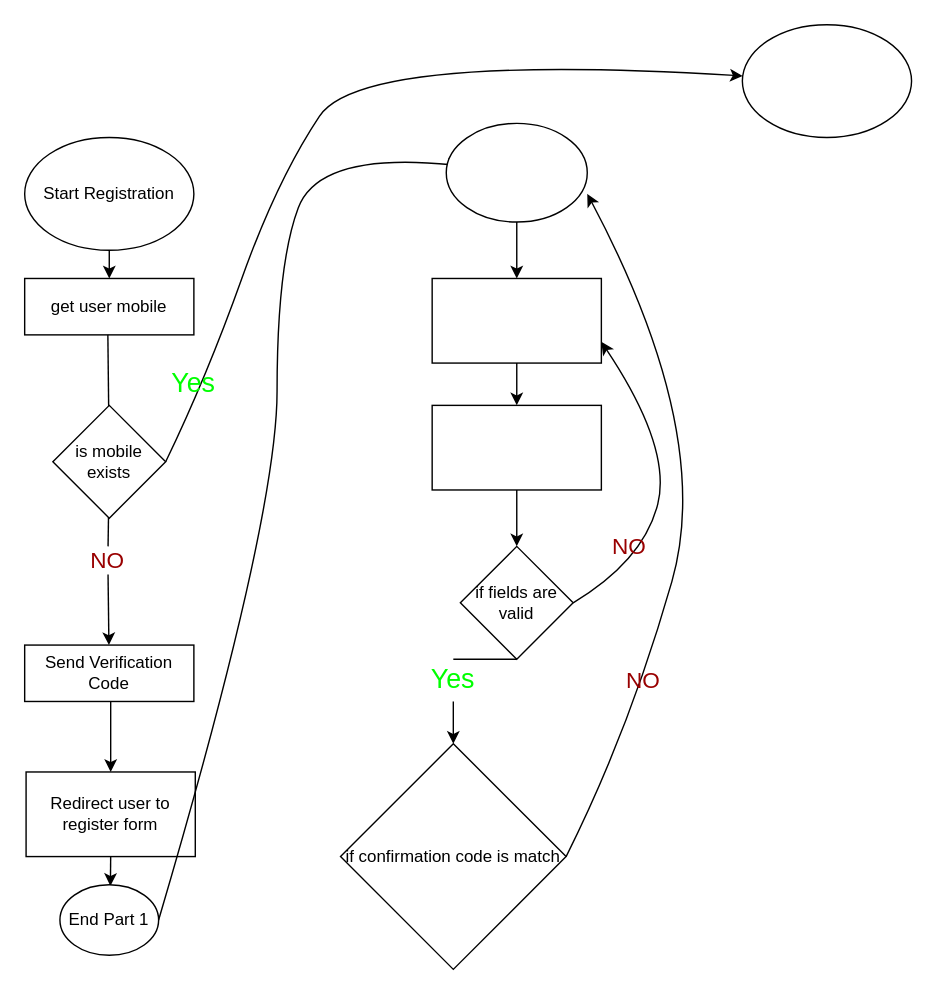
Image size: 936x994. Some labels were removed from this diagram. The shapes that lost their labels are listed below. From the top down, each one's box as (x1, y1, x2, y2) in pixels, then its label:
(741, 23, 912, 137): Login System
(445, 122, 587, 222): Start Part 2
(431, 277, 601, 363): Get User information including confirmation code
(431, 404, 601, 490): submit form by user
